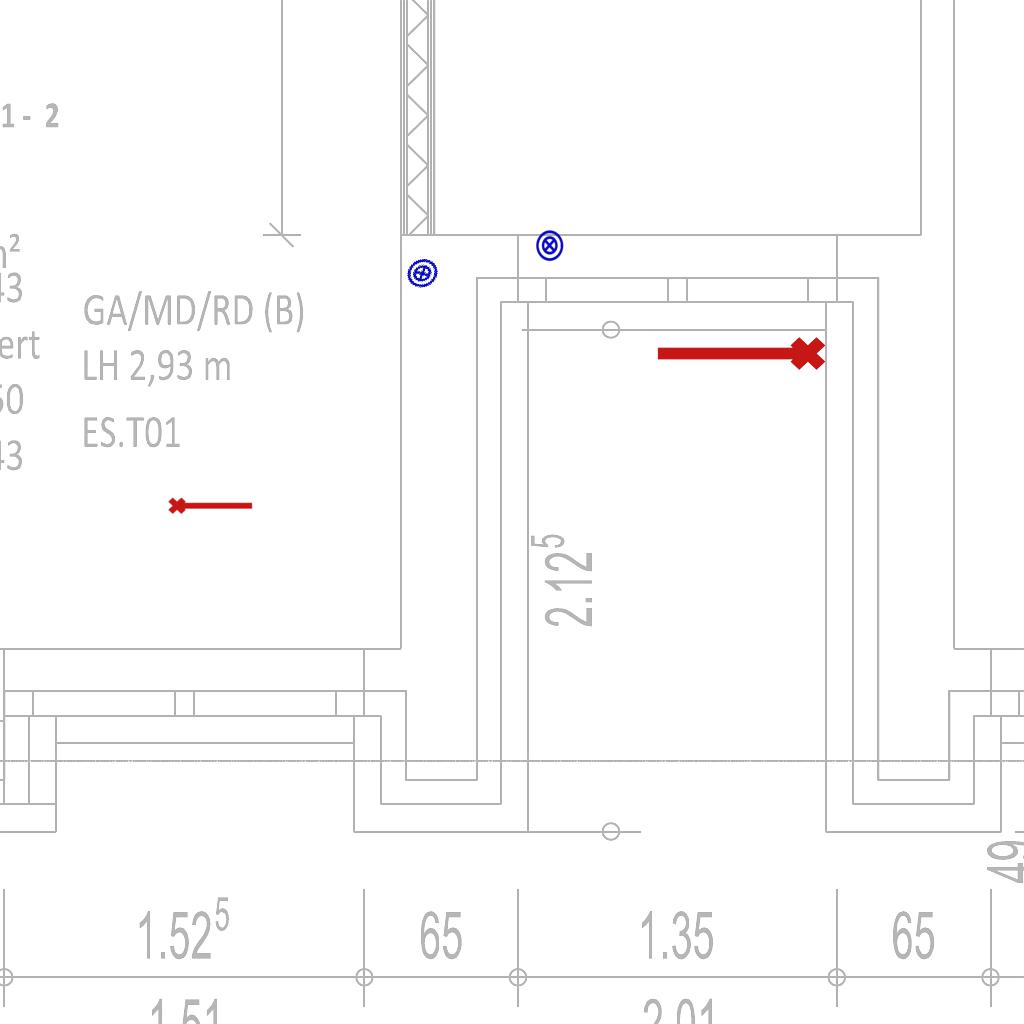ASR_Ansaugoeffnung: (652, 333, 828, 379), (167, 493, 255, 516)
Taster_beleuchtet: (400, 251, 445, 296), (533, 229, 566, 262)
